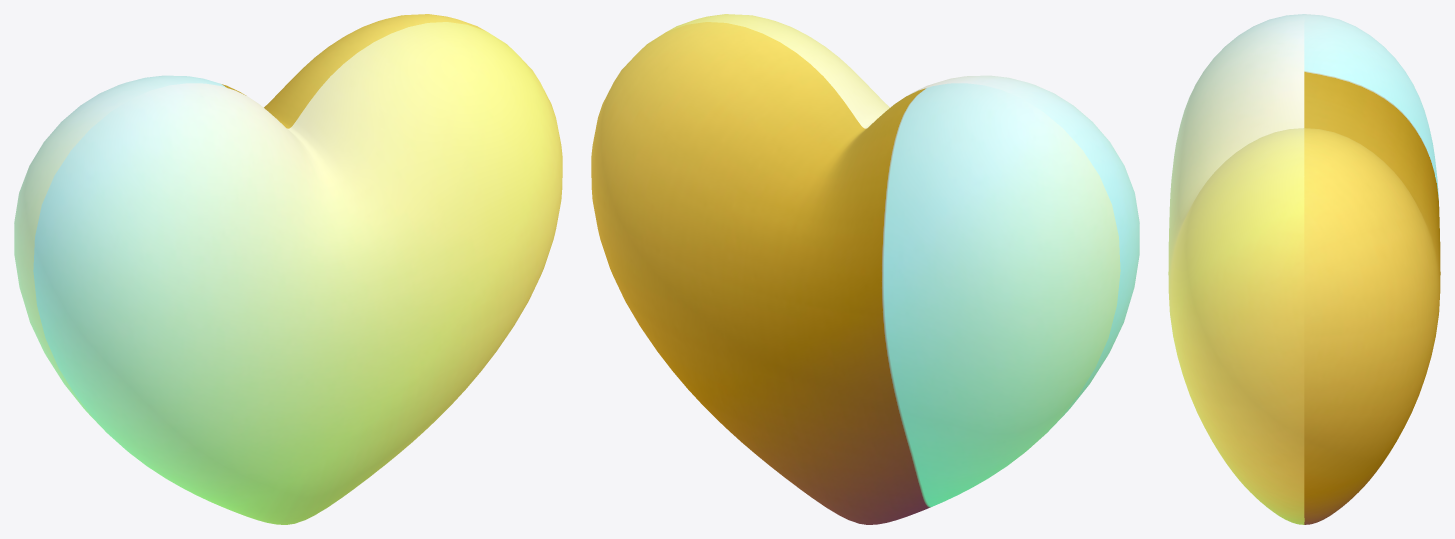
File: heart.glb
3 views of the same model, side by side, from view 1: azimuth 30°, elevation 25°; view 2: azimuth 150°, elevation 25°; view 3: azimuth 270°, elevation 25° (orthographic). The views are drawn at different scales.
Visible parts, largest first — view 1: BASE_HEART; view 2: BASE_HEART; view 3: BASE_HEART.
Boxes of the visible parts, x1,y1,x2,y2 form: BASE_HEART: (14, 14, 562, 524); BASE_HEART: (591, 14, 1139, 524); BASE_HEART: (1168, 14, 1440, 524).
Size of the model in its own units: 0.8581 by 0.7483 by 0.4225.
1 material, 1 textured.
